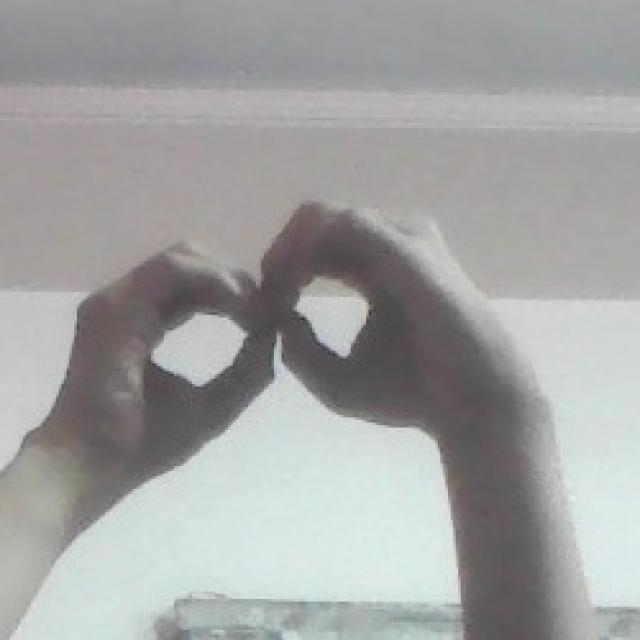Alphabet-B: (54, 196, 518, 469)
